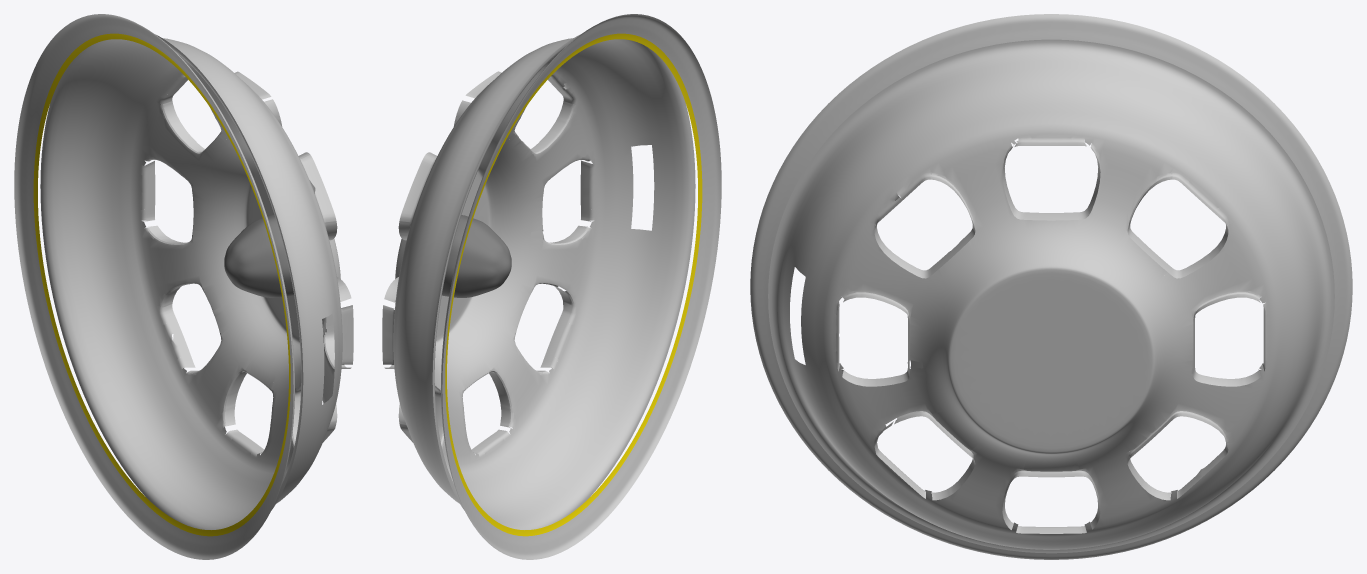
Rendered from cerchione.obj.
3 views of the same model, side by side, from view 1: azimuth 30°, elevation 25°; view 2: azimuth 150°, elevation 25°; view 3: azimuth 270°, elevation 25° (orthographic). The views are drawn at different scales.
Parts seen in each view (by area): view 1: cerchione_e_mozzo; view 2: cerchione_e_mozzo; view 3: cerchione_e_mozzo.
Boxes of the visible parts, bbox=[...] form: cerchione_e_mozzo: bbox=[14, 14, 353, 559]; cerchione_e_mozzo: bbox=[382, 14, 721, 559]; cerchione_e_mozzo: bbox=[750, 14, 1352, 559].
Bounding box in the file's own units: 0.2601 × 0.8964 × 0.8964.
